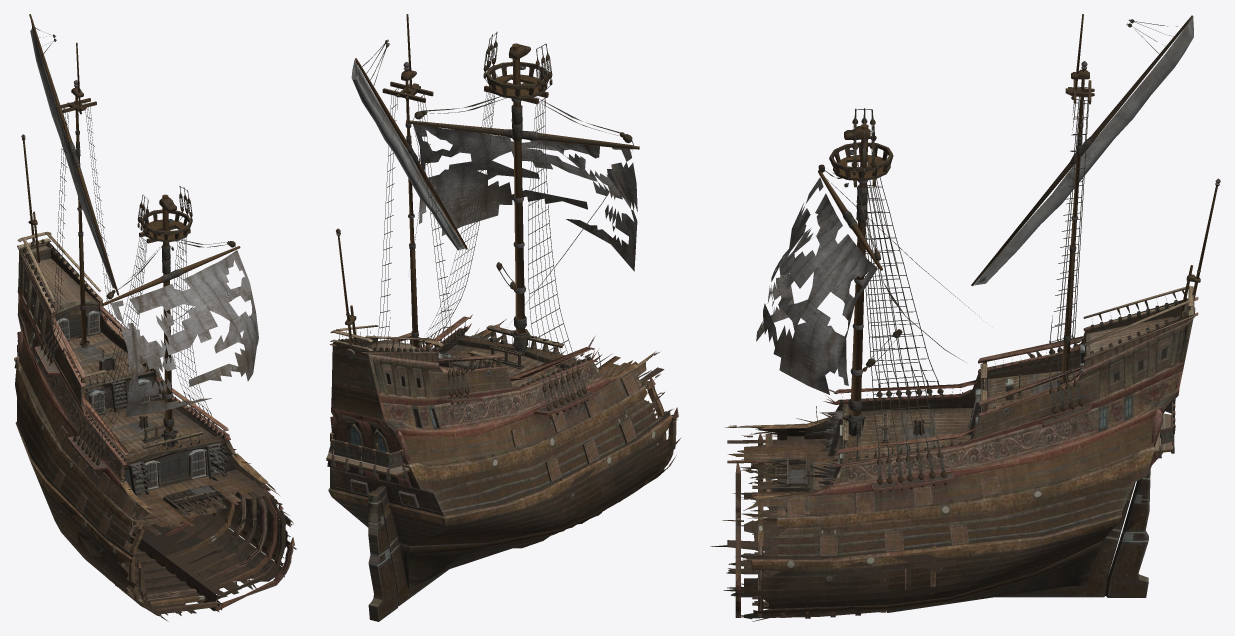
Rendered from hull_half_stern.glb.
3 renders of one model, left to right at view 1: azimuth 30°, elevation 25°; view 2: azimuth 150°, elevation 25°; view 3: azimuth 270°, elevation 25°, orthographic. The views are drawn at different scales.
Visible parts, largest first — view 1: dutch_ship_large_02_hull, dutch_ship_large_02_rigging.300, dutch_ship_large_02_sails.001; view 2: dutch_ship_large_02_hull, dutch_ship_large_02_rigging.300, dutch_ship_large_02_sails.001; view 3: dutch_ship_large_02_hull, dutch_ship_large_02_rigging.300, dutch_ship_large_02_sails.001.
Part boxes in pixels (left/top/right/bottom): dutch_ship_large_02_hull: left=14, top=231, right=296, bottom=621; dutch_ship_large_02_rigging.300: left=21, top=14, right=240, bottom=483; dutch_ship_large_02_sails.001: left=110, top=250, right=258, bottom=416; dutch_ship_large_02_hull: left=326, top=314, right=681, bottom=621; dutch_ship_large_02_rigging.300: left=336, top=14, right=639, bottom=430; dutch_ship_large_02_sails.001: left=413, top=124, right=637, bottom=271; dutch_ship_large_02_hull: left=710, top=285, right=1198, bottom=621; dutch_ship_large_02_rigging.300: left=816, top=14, right=1220, bottom=498; dutch_ship_large_02_sails.001: left=756, top=177, right=877, bottom=394.
Bounding box in the file's own units: 8.55 × 23.04 × 18.34.
Materials: 4 (3 with a texture image).
